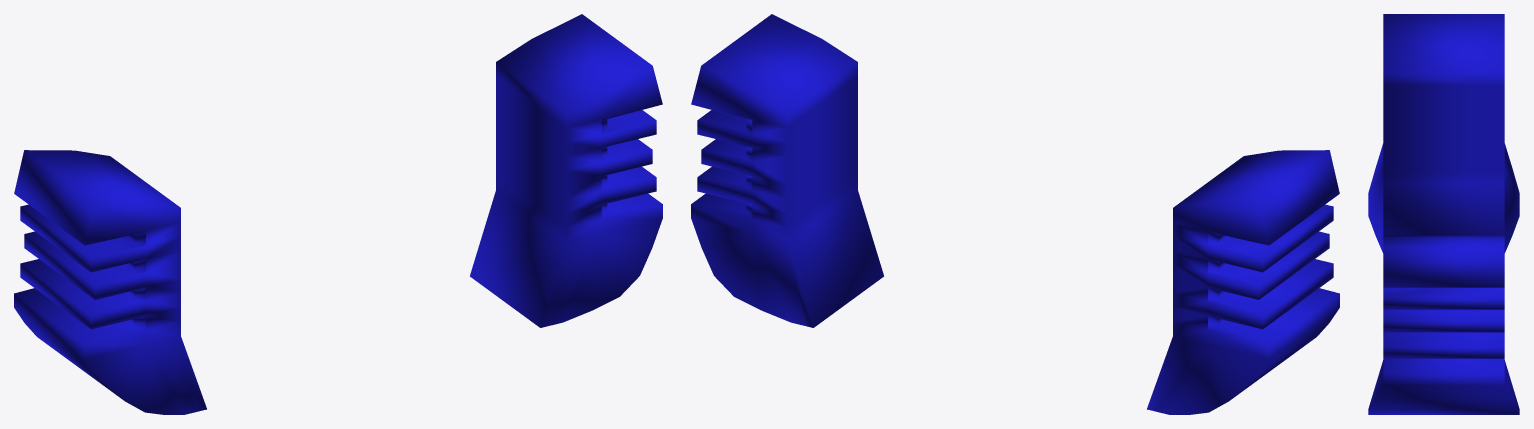
Rendered from hoverboard_rubber_blue.dae.
3 renders of one model, left to right at view 1: azimuth 30°, elevation 25°; view 2: azimuth 150°, elevation 25°; view 3: azimuth 270°, elevation 25°, orthographic. The views are drawn at different scales.
Visible parts, largest first — view 1: Torus_001; view 2: Torus_001; view 3: Torus_001.
Part boxes in pixels (x1,y1,x2,y2): Torus_001: (14,14,662,414); Torus_001: (691,14,1339,414); Torus_001: (1368,14,1519,414).
Bounding box in the file's own units: 4.26 × 1.13 × 1.65.
